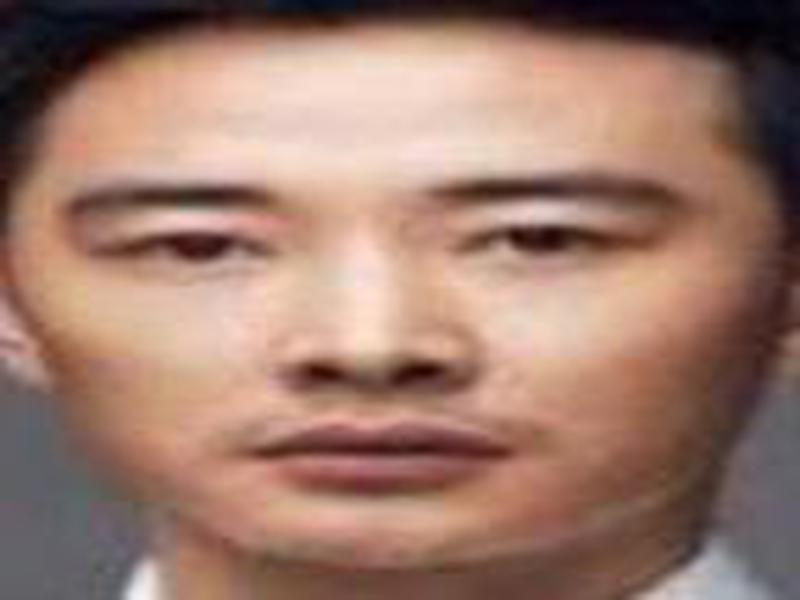without_mask: (14, 29, 772, 565)
